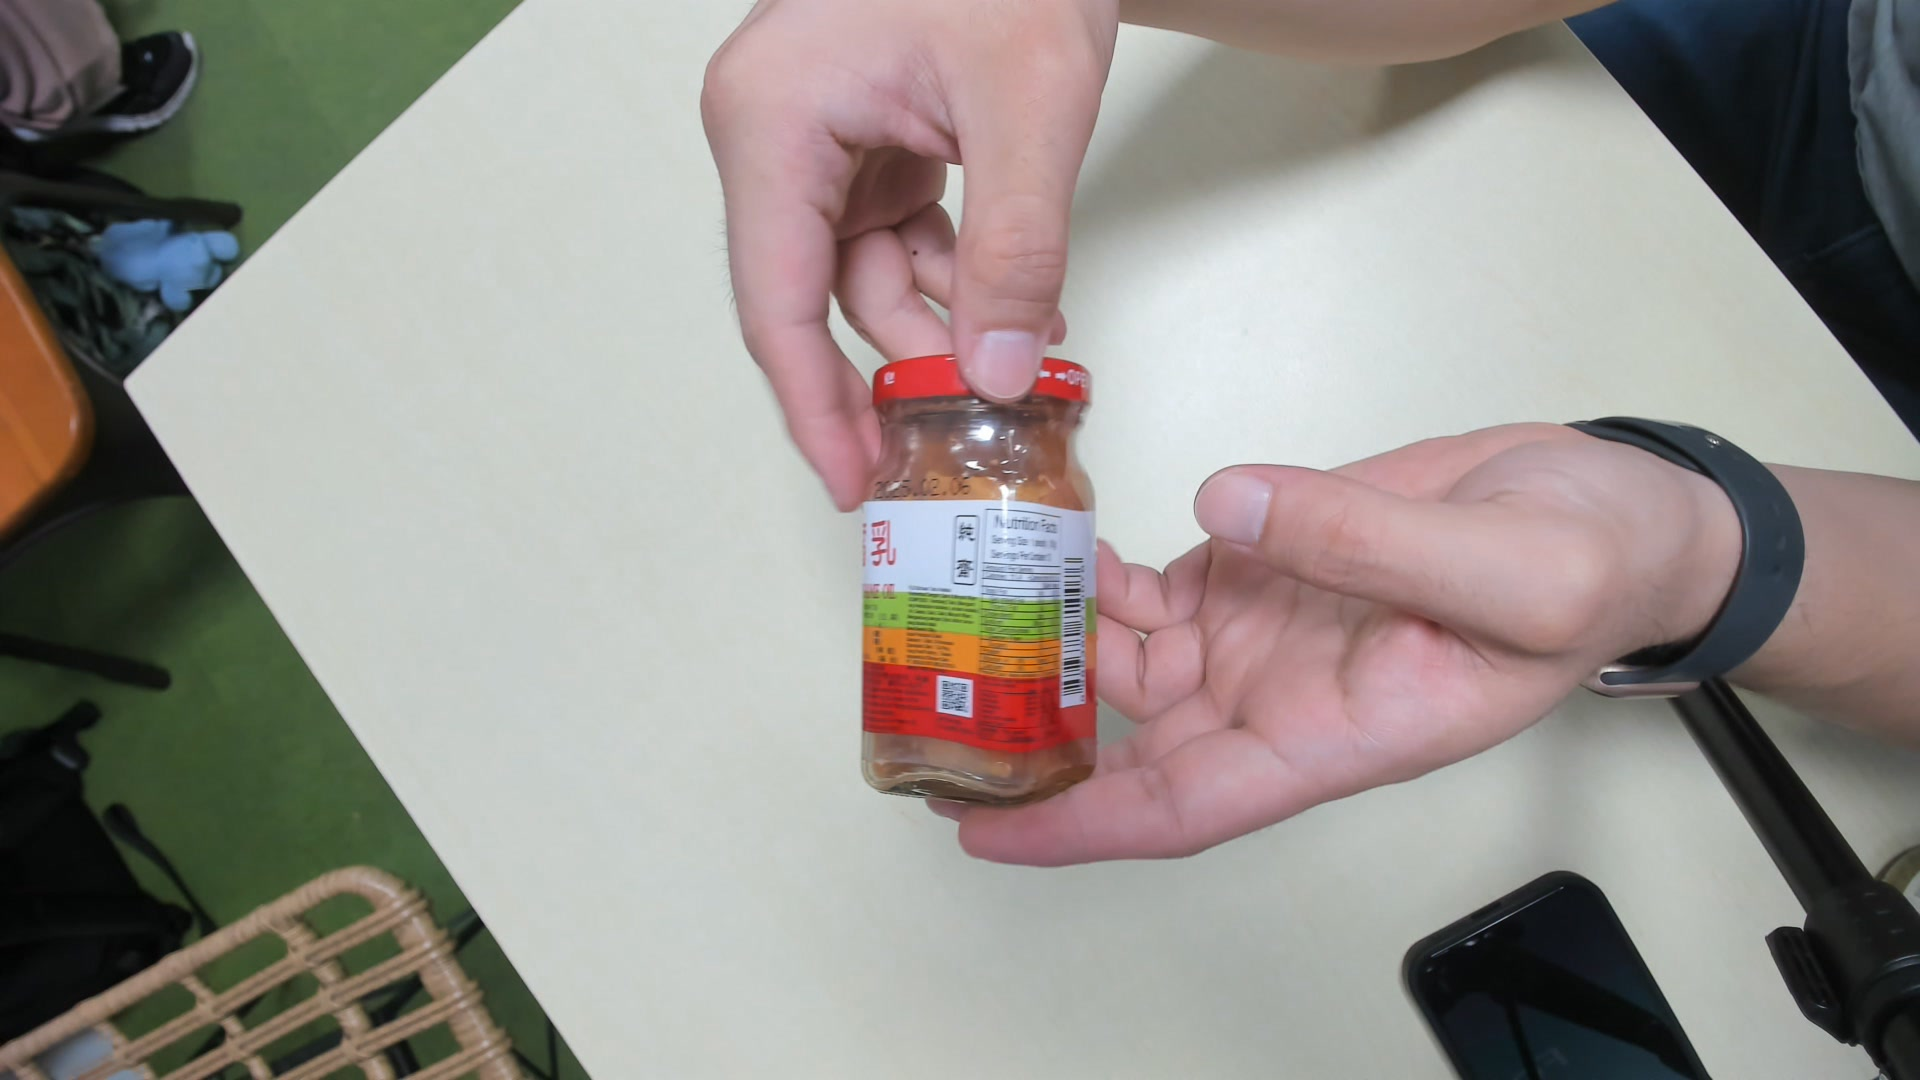OtherSauceDressing_100-199g_NonHalal_NonHealthy: (855, 352, 1108, 804)
